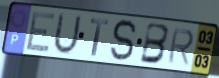B: (138, 20, 172, 66)
E: (24, 10, 58, 53)
R: (166, 28, 196, 67)
S: (109, 18, 139, 64)
T: (89, 17, 110, 58)
U: (51, 11, 84, 57)
